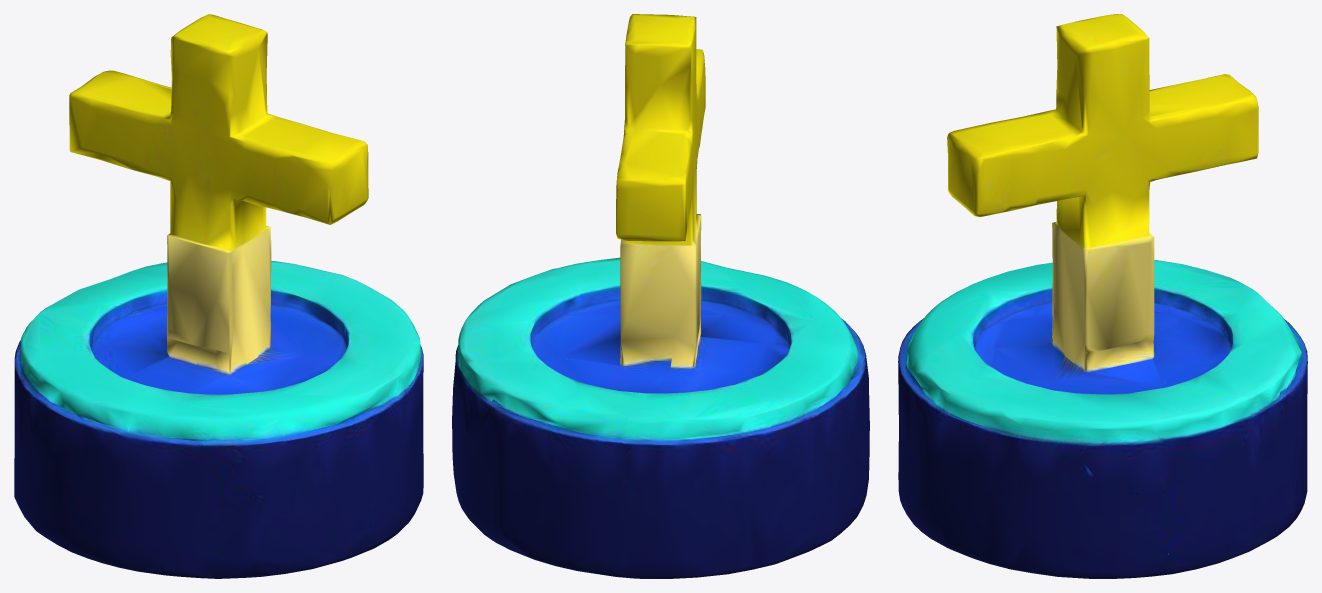
Rendered from respawn-beacon.glb.
3 renders of one model, left to right at view 1: azimuth 30°, elevation 25°; view 2: azimuth 150°, elevation 25°; view 3: azimuth 270°, elevation 25°, orthographic.
Parts seen in each view (by area): view 1: tripo_node_e9bf357a-5ef4-429e-bcb5-5f4f1be3da00; view 2: tripo_node_e9bf357a-5ef4-429e-bcb5-5f4f1be3da00; view 3: tripo_node_e9bf357a-5ef4-429e-bcb5-5f4f1be3da00.
Boxes of the visible parts, x1,y1,x2,y2 form: tripo_node_e9bf357a-5ef4-429e-bcb5-5f4f1be3da00: (14,14,423,578); tripo_node_e9bf357a-5ef4-429e-bcb5-5f4f1be3da00: (452,14,869,578); tripo_node_e9bf357a-5ef4-429e-bcb5-5f4f1be3da00: (898,14,1307,578).
Bounding box in the file's own units: 0.8002 × 0.9996 × 0.7949.
1 material, 1 textured.
